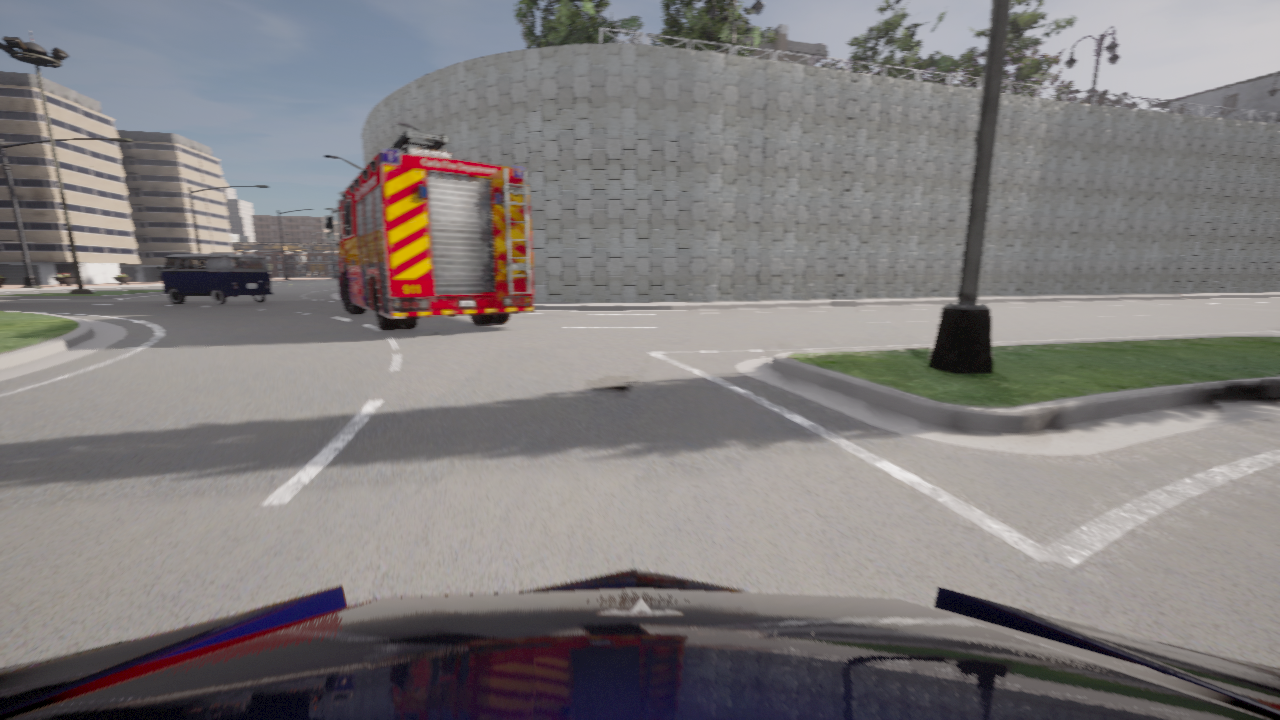cyclist: (0, 569, 1279, 719), (324, 129, 533, 330), (158, 253, 273, 304)
